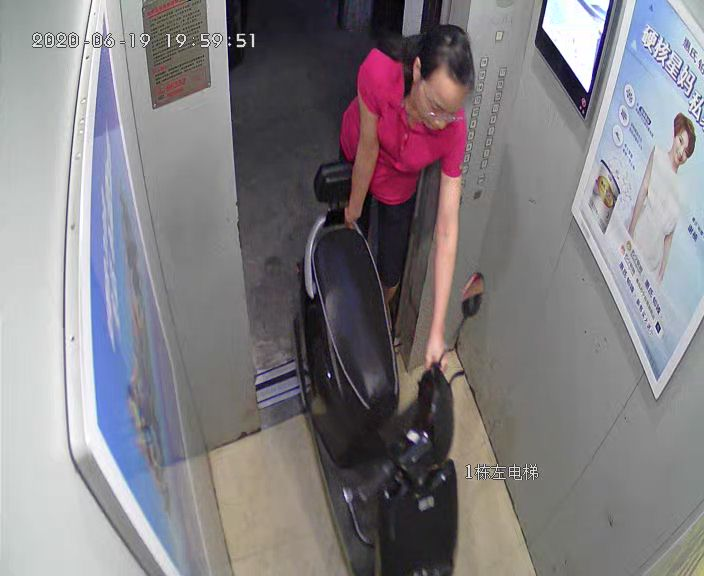Electric-bicycle: (298, 165, 487, 576)
